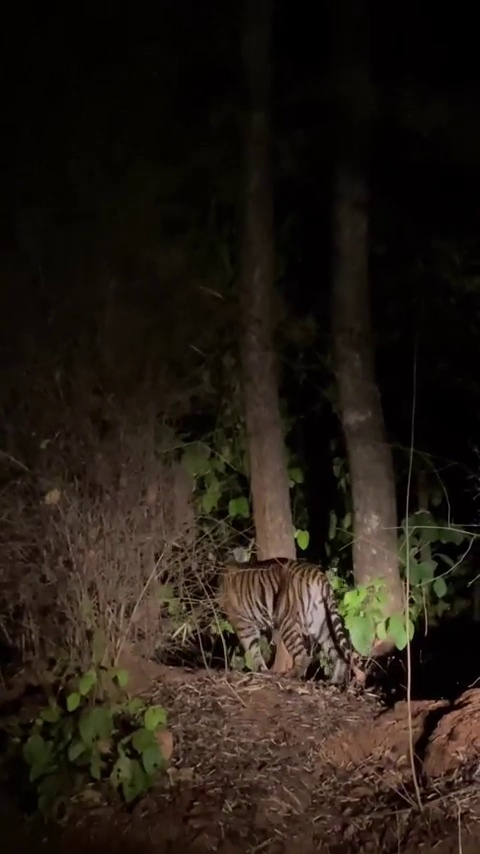Tiger: (213, 554, 385, 691)
